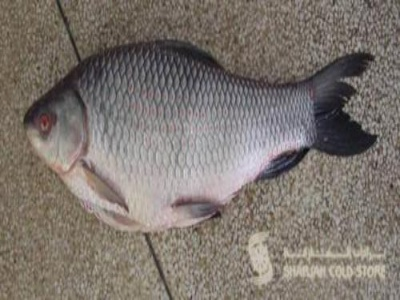rohu: (25, 37, 383, 234)
